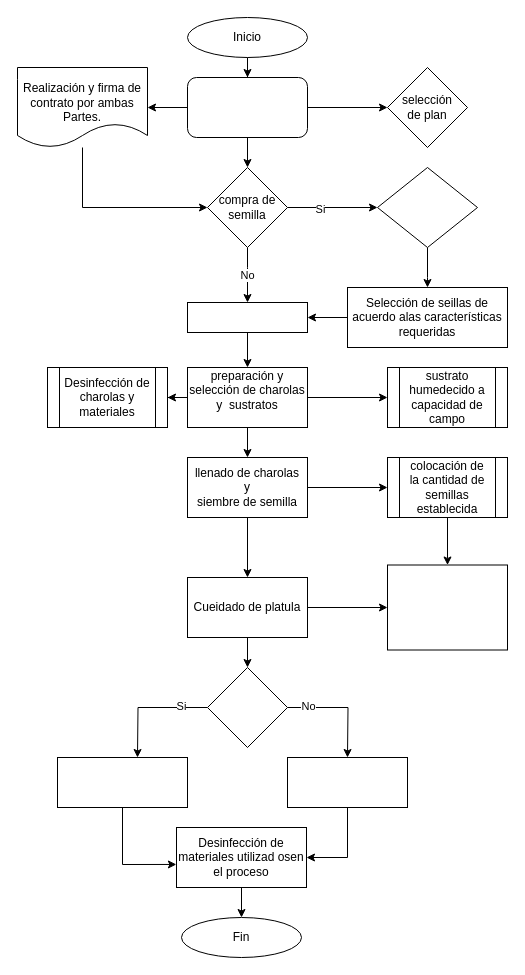
The diagram is 525 pixels wide and 975 high, and some of its shapes have lost their labels. Each missing label, with the centre of its shape:
"Entrega de la Plántula en el lugar establecida" goes at pixel 122 782.
"Entrega de plántula en el establecimiento" goes at pixel 347 782.
"propuestas de" goes at pixel 247 107.
"Riego Nutricion regualcion de temperatura y humedad" goes at pixel 447 607.
"selección de sustrato" goes at pixel 247 317.
"Selecion de semillas" goes at pixel 427 207.
"servicio a domicilio" goes at pixel 247 707.
